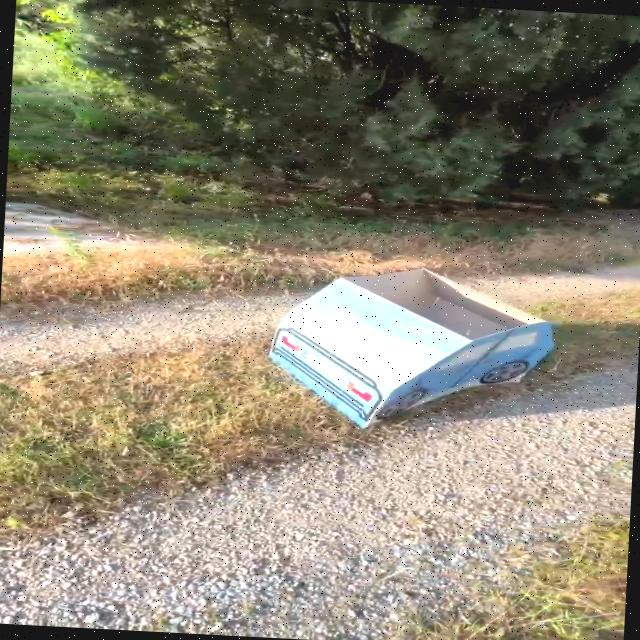blue_car: (220, 249, 575, 457)
